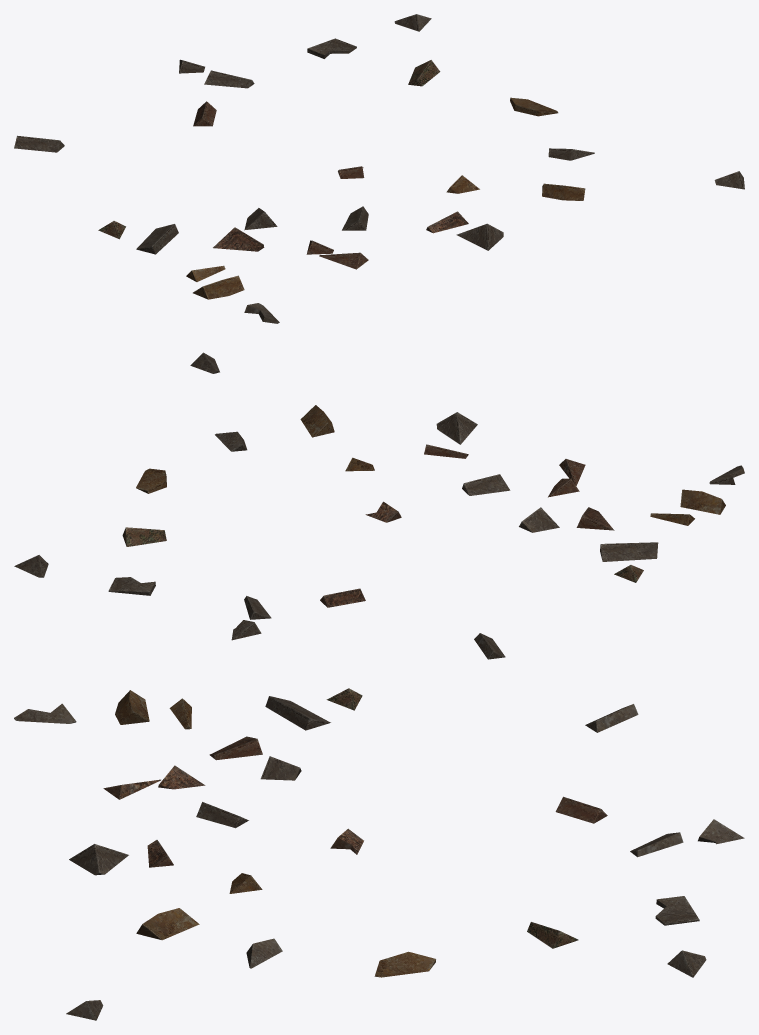
Rendered from debris_bricks_mx_2.glb.
The picture shows the model from 3 angles, top to bottom: view 1: azimuth 30°, elevation 25°; view 2: azimuth 150°, elevation 25°; view 3: azimuth 270°, elevation 25°; orthographic projection. The views are drawn at different scales.
Visible parts, largest first — view 1: debris_bricks_mx_2; view 2: debris_bricks_mx_2; view 3: debris_bricks_mx_2.
Part boxes in pixels (x1=…): debris_bricks_mx_2: x1=14, y1=14, x2=744, y2=323; debris_bricks_mx_2: x1=14, y1=352, x2=744, y2=659; debris_bricks_mx_2: x1=14, y1=688, x2=744, y2=1020.
Size of the model in its own units: 2.11 by 0.0652 by 2.
Materials: 1 (1 with a texture image).
